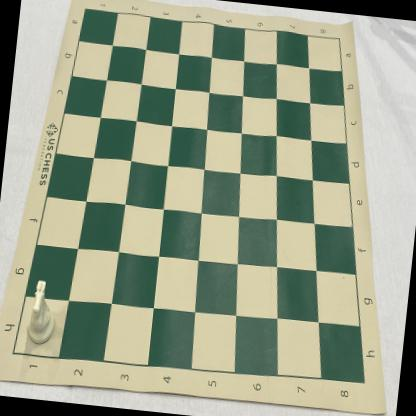knight: (24, 278, 60, 347)
